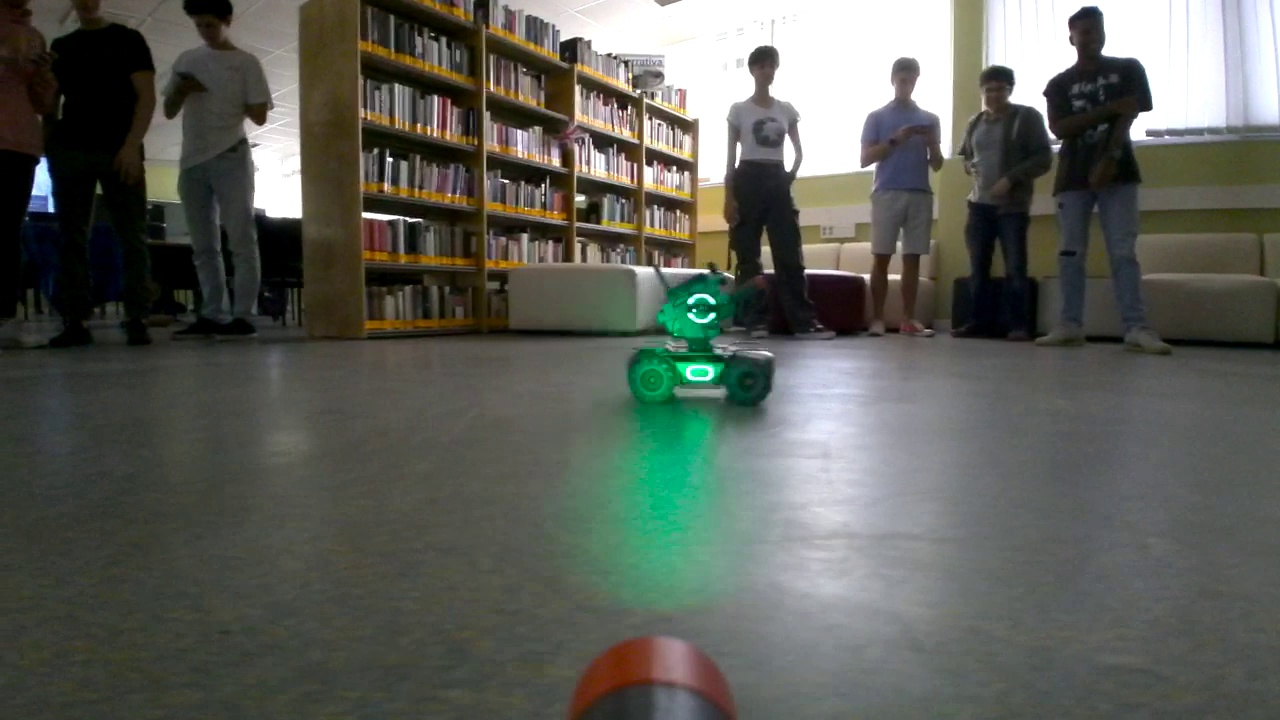robot: (624, 262, 780, 414)
